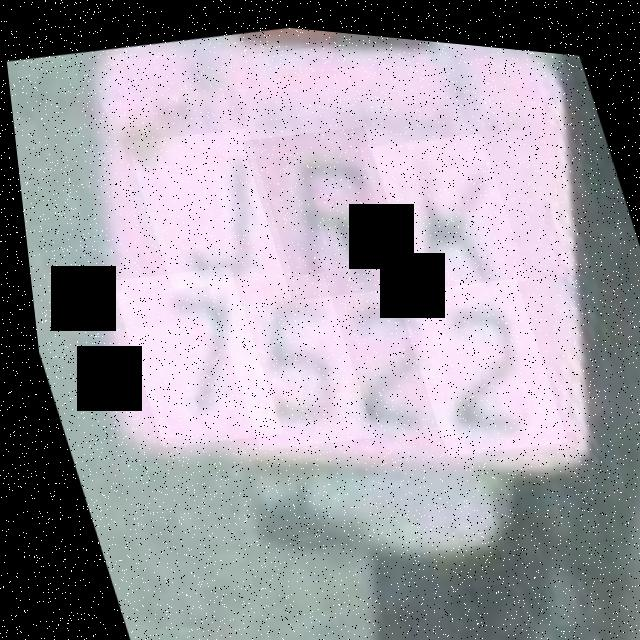2: (388, 258, 561, 457), (295, 260, 462, 453)
5: (200, 257, 368, 455)
7: (102, 253, 275, 454)
J: (120, 113, 288, 296)
K: (354, 114, 524, 296)
R: (237, 109, 411, 304)
